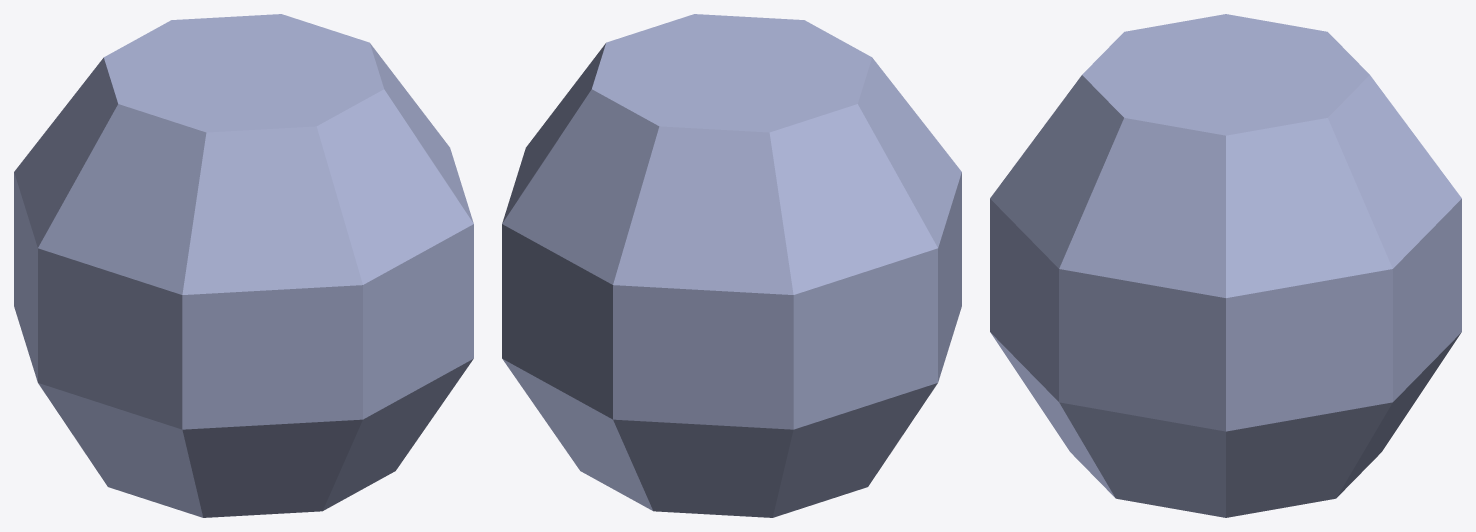
File: rock_small.glb
3 views of the same model, side by side, from view 1: azimuth 30°, elevation 25°; view 2: azimuth 150°, elevation 25°; view 3: azimuth 270°, elevation 25° (orthographic).
Visible parts, largest first — view 1: rock_small; view 2: rock_small; view 3: rock_small.
Boxes of the visible parts, left/top/right/bottom form: rock_small: left=14, top=14, right=473, bottom=517; rock_small: left=502, top=14, right=961, bottom=517; rock_small: left=990, top=14, right=1461, bottom=517.
Size of the model in its own units: 0.4618 by 0.4074 by 0.4618.
